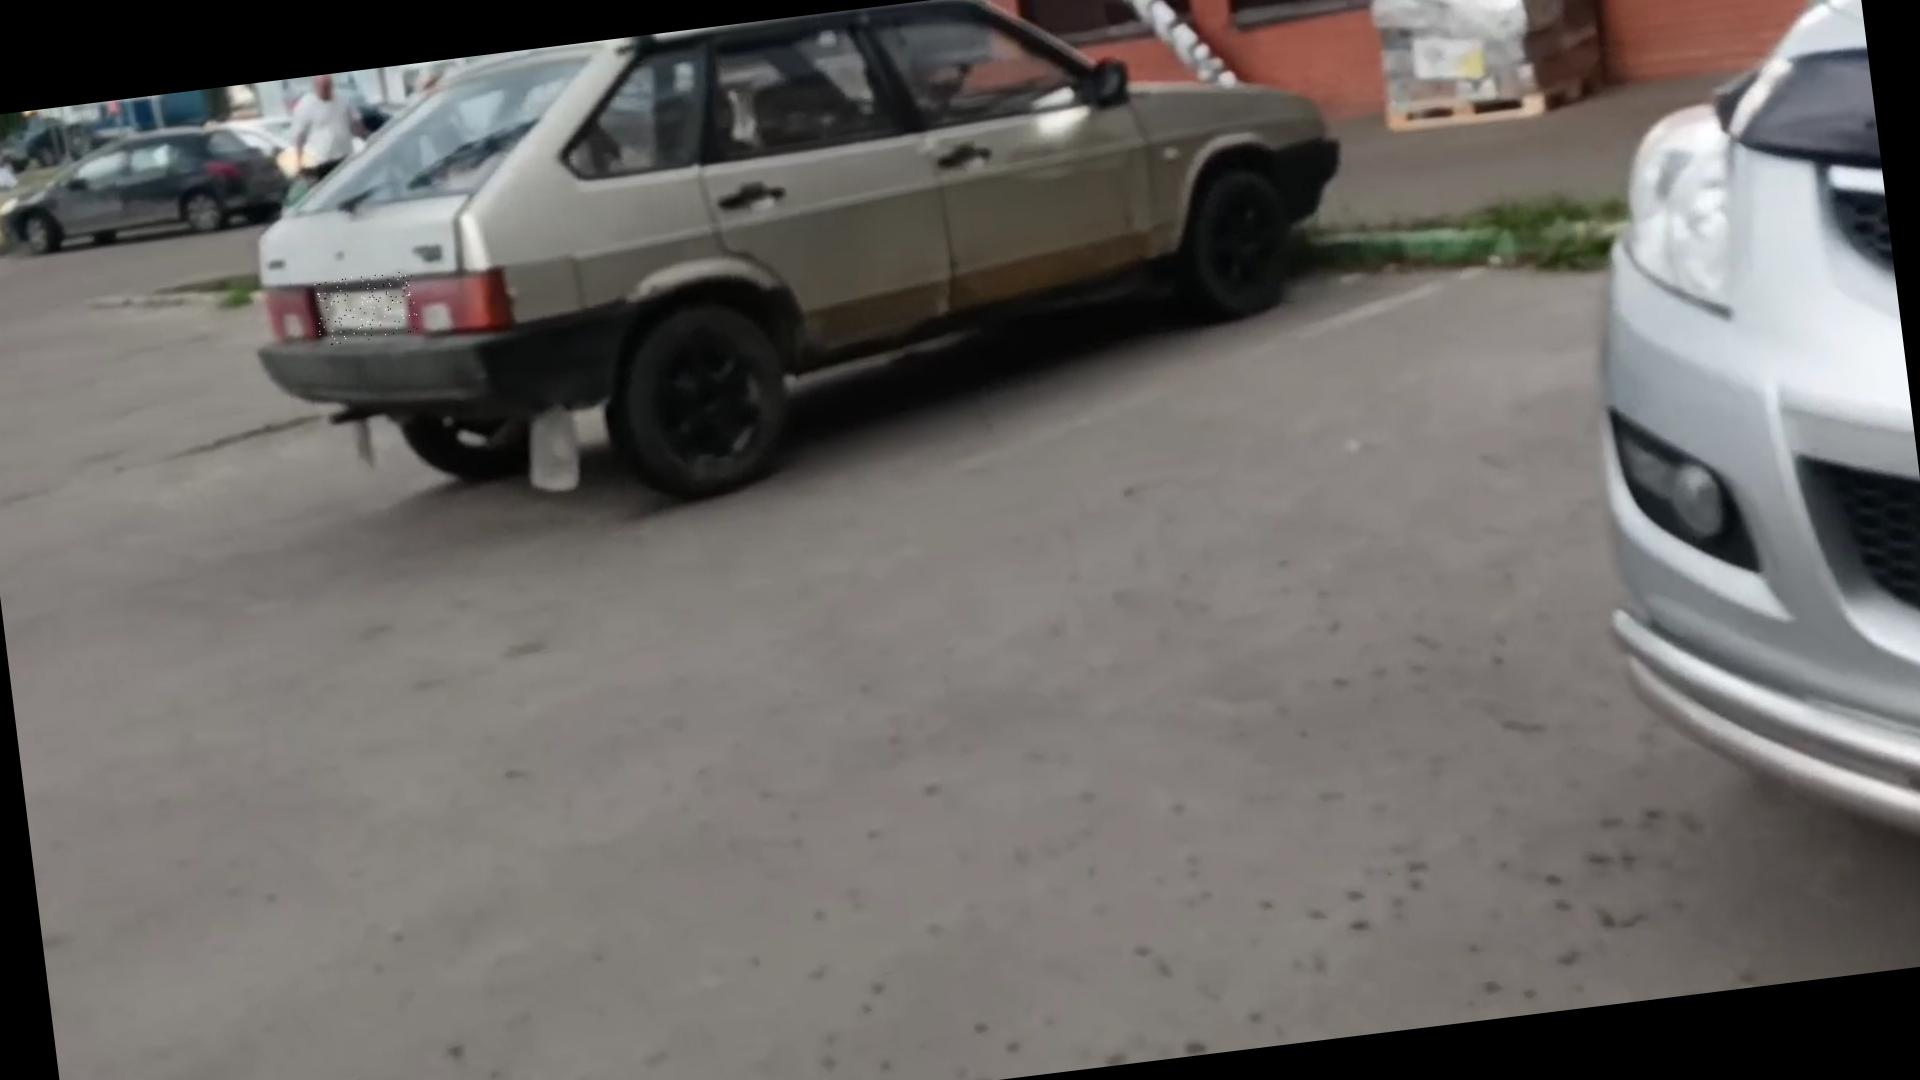plate: (315, 270, 423, 347)
